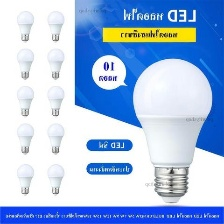light_bulb: (130, 57, 215, 204), (14, 7, 37, 43), (13, 162, 36, 197), (45, 83, 66, 119), (45, 46, 66, 79), (16, 45, 35, 81), (15, 121, 35, 155), (15, 85, 35, 118), (46, 162, 65, 196), (46, 9, 66, 41), (46, 122, 65, 154)
